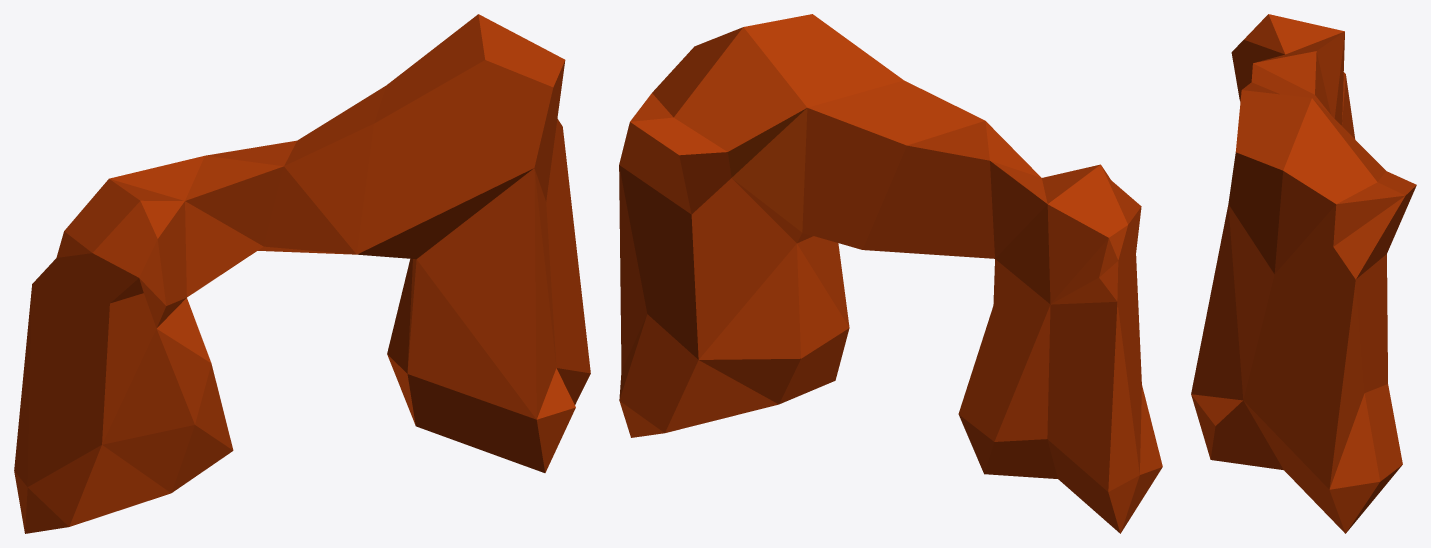
Rendered from Break1.fbx.
The picture shows the model from 3 angles, left to right: view 1: azimuth 30°, elevation 25°; view 2: azimuth 150°, elevation 25°; view 3: azimuth 270°, elevation 25°; orthographic projection. The views are drawn at different scales.
Parts seen in each view (by area): view 1: Cube.005; view 2: Cube.005; view 3: Cube.005.
Boxes of the visible parts, x1,y1,x2,y2 form: Cube.005: (14,14,590,533); Cube.005: (619,14,1162,533); Cube.005: (1191,14,1416,533).
Size of the model in its own units: 40.79 by 31.67 by 16.5.
